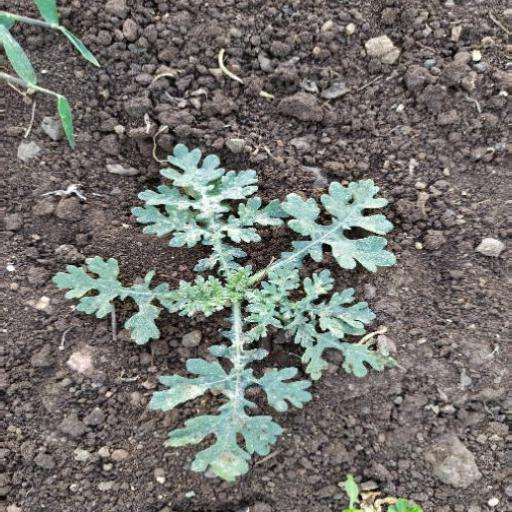weed: (47, 124, 408, 478)
